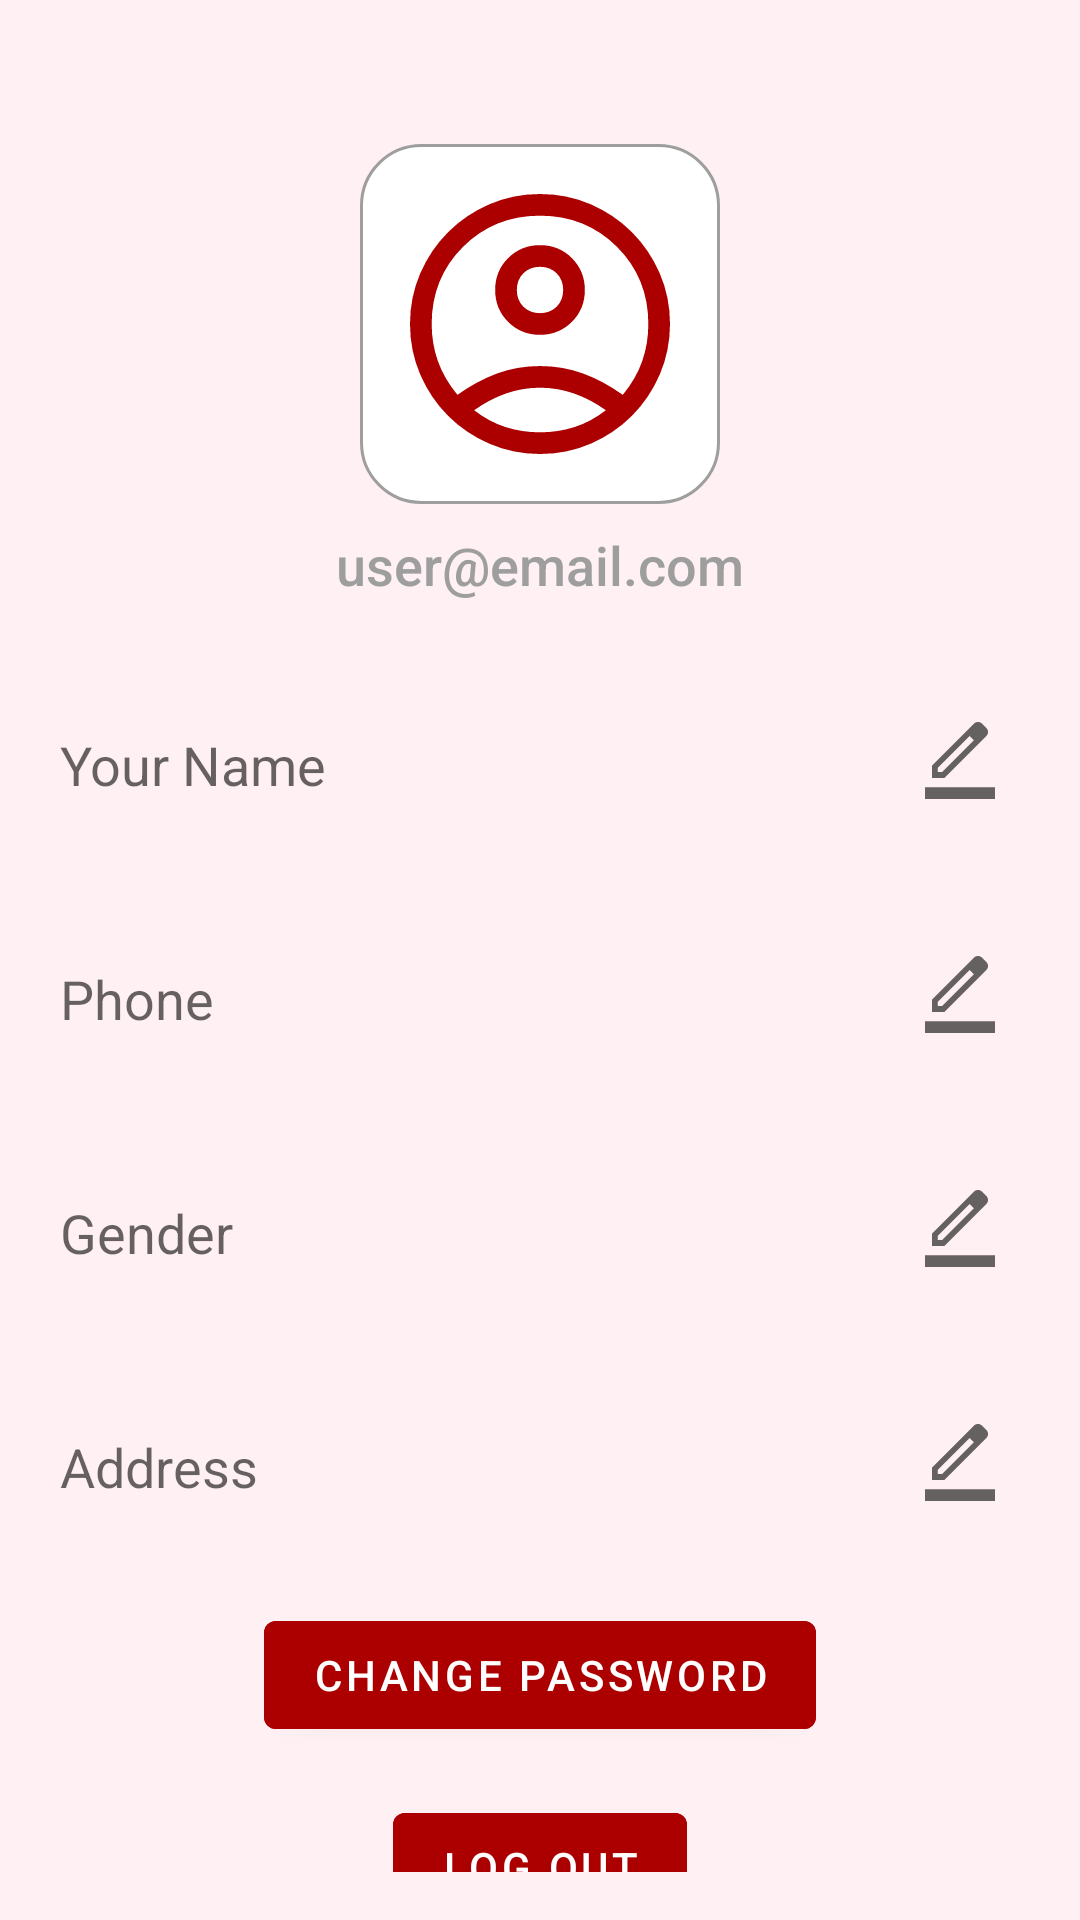

Named icons in this screenshot (1080px x 1920px) and their bounding boxes, (x1=x1, y1=y1, x2=x2, y2=y2):
Edit Name: (x1=925, y1=722, x2=995, y2=799)
profile: (x1=360, y1=144, x2=720, y2=504)
